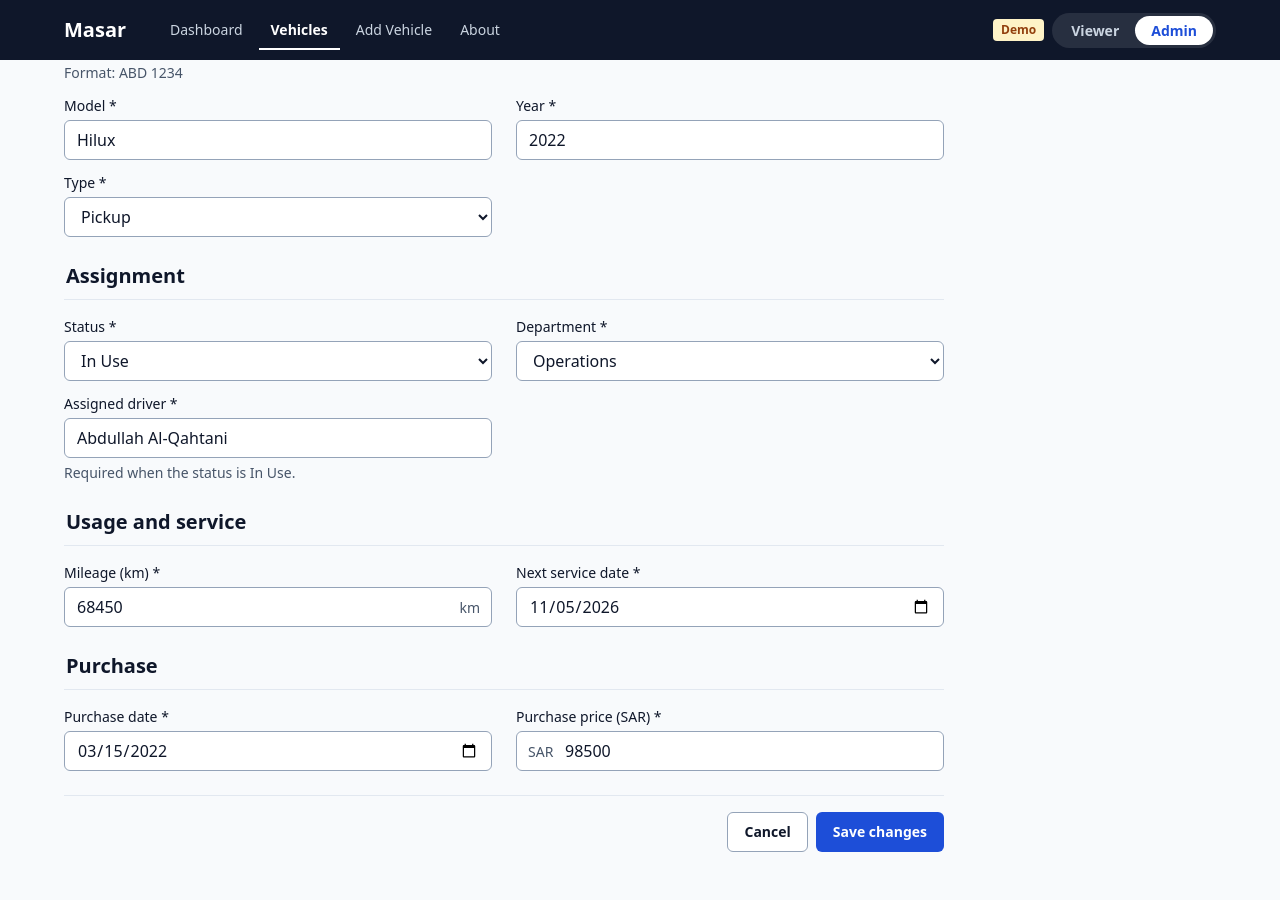
Test: Edit vehicle (US-5) › pre-fills the form and saves a change (AC-5.1, AC-5.2, AC-5.3)
(page scrolled)
Expected: the field labelled "Plate number *" holds "KSA 4821", [64,18,492,58]
Replace the text in the number field labelled "Mileage (km) *" with "69100" at (278, 607), box [64,587,492,627]
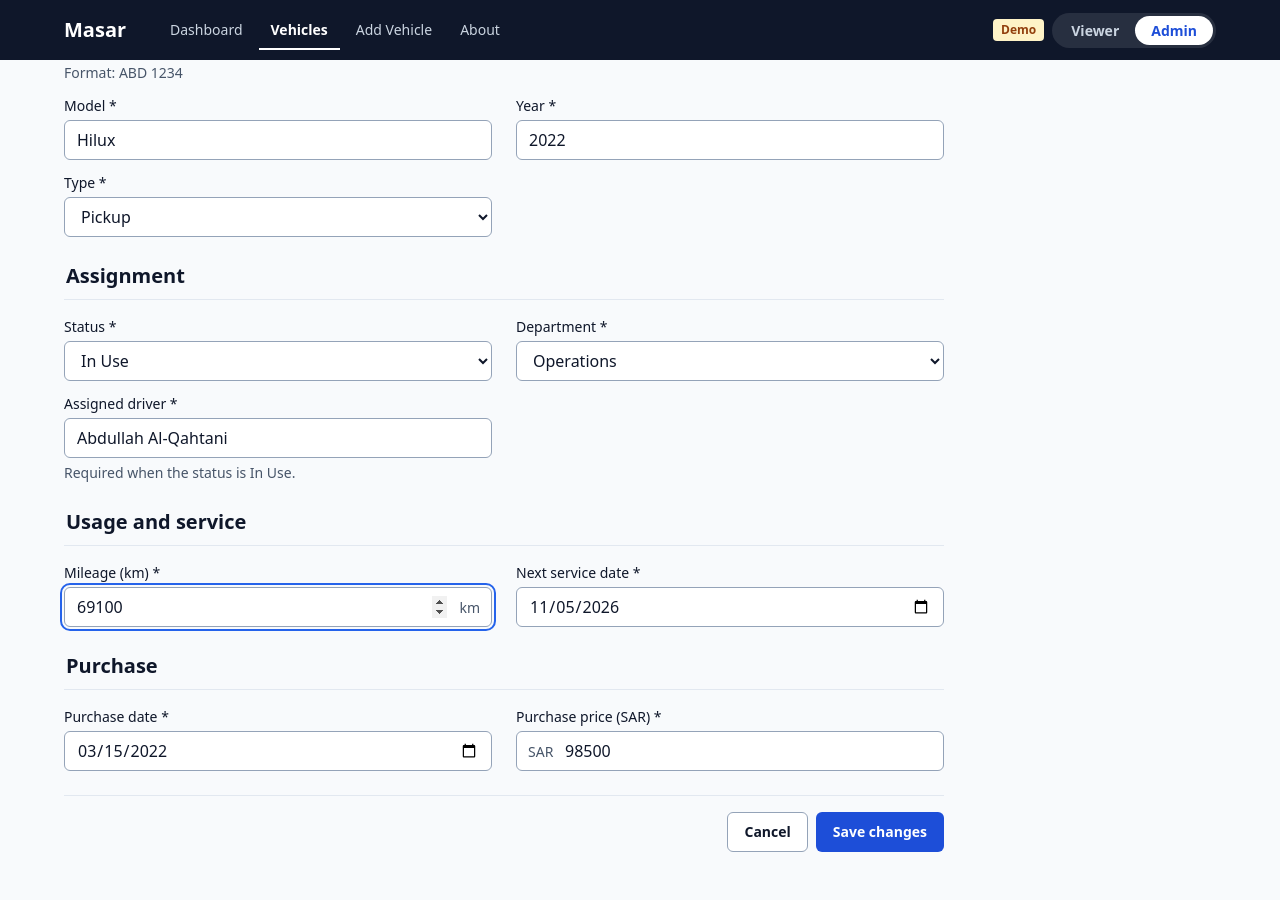
Click the button "Save changes" at (880, 832), box [816,812,944,852]
(page scrolled)
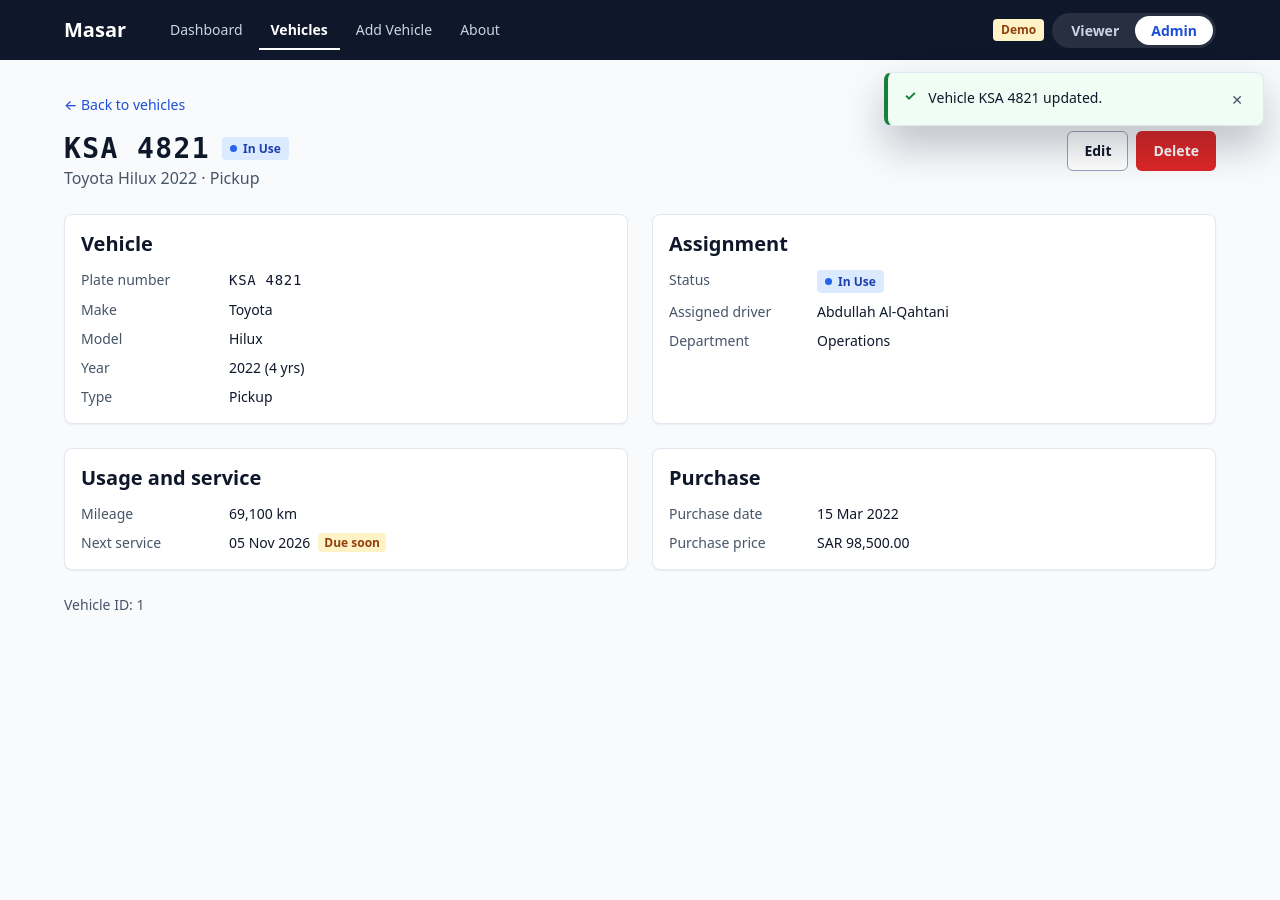
Result: the text "Vehicle KSA 4821 updated." is shown at [928,88,1102,107]
Result: the text "69,100 km" is shown at [229,504,297,523]
Result: the link "← Back to vehicles" is shown at [64,94,185,115]
